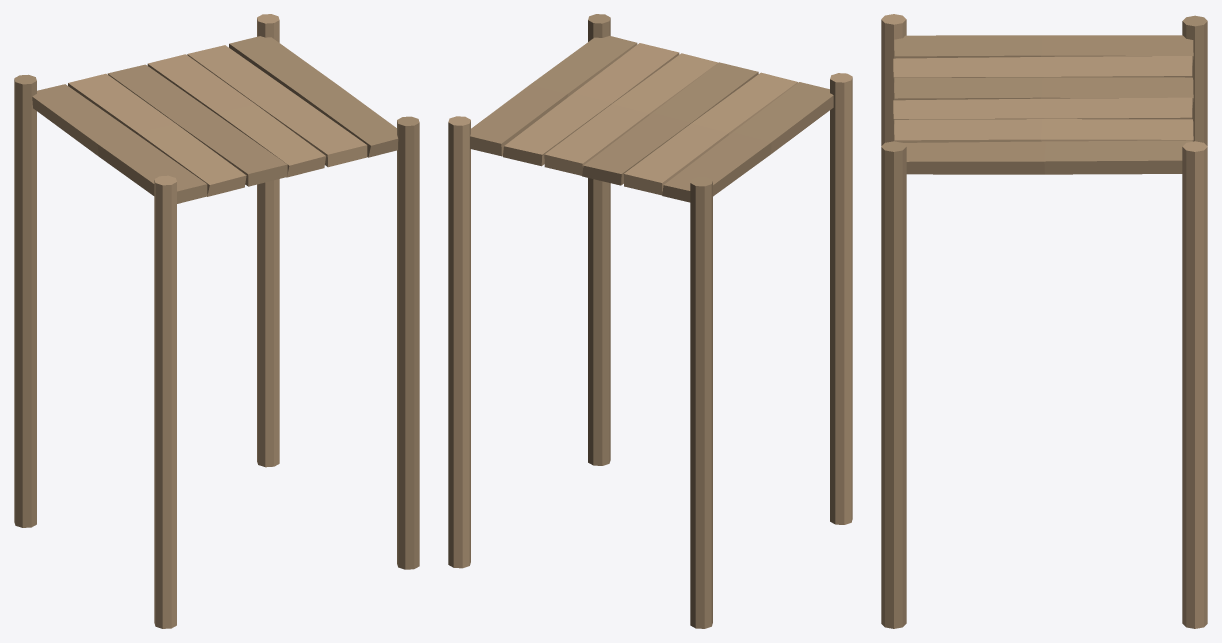
File: roman_dock.fbx
3 renders of one model, left to right at view 1: azimuth 30°, elevation 25°; view 2: azimuth 150°, elevation 25°; view 3: azimuth 270°, elevation 25°, orthographic. The views are drawn at different scales.
Parts seen in each view (by area): view 1: Cube.033, Cylinder.022, Cylinder.021, Cylinder.018, Cylinder.019; view 2: Cube.033, Cylinder.018, Cylinder.019, Cylinder.022, Cylinder.021; view 3: Cube.033, Cylinder.019, Cylinder.021, Cylinder.018, Cylinder.022.
Part boxes in pixels (x1=…): Cube.033: x1=32, y1=36, x2=398, y2=203; Cylinder.022: x1=154, y1=175, x2=176, y2=628; Cylinder.021: x1=397, y1=116, x2=419, y2=569; Cylinder.018: x1=14, y1=74, x2=36, y2=527; Cylinder.019: x1=257, y1=14, x2=279, y2=467; Cube.033: x1=470, y1=36, x2=833, y2=202; Cylinder.018: x1=690, y1=177, x2=712, y2=628; Cylinder.019: x1=448, y1=116, x2=470, y2=568; Cylinder.022: x1=830, y1=73, x2=852, y2=524; Cylinder.021: x1=588, y1=14, x2=610, y2=465; Cube.033: x1=893, y1=35, x2=1193, y2=174; Cylinder.019: x1=1182, y1=141, x2=1207, y2=628; Cylinder.021: x1=881, y1=141, x2=906, y2=628; Cylinder.018: x1=1182, y1=15, x2=1207, y2=145; Cylinder.022: x1=881, y1=14, x2=906, y2=145.
Size of the model in its own units: 2.17 by 3.51 by 2.17.
